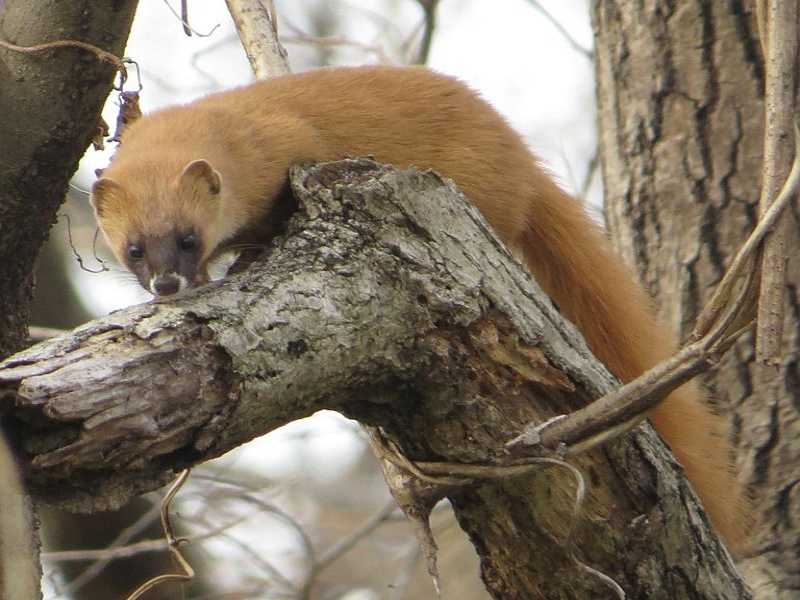minkish: (83, 66, 754, 563)
